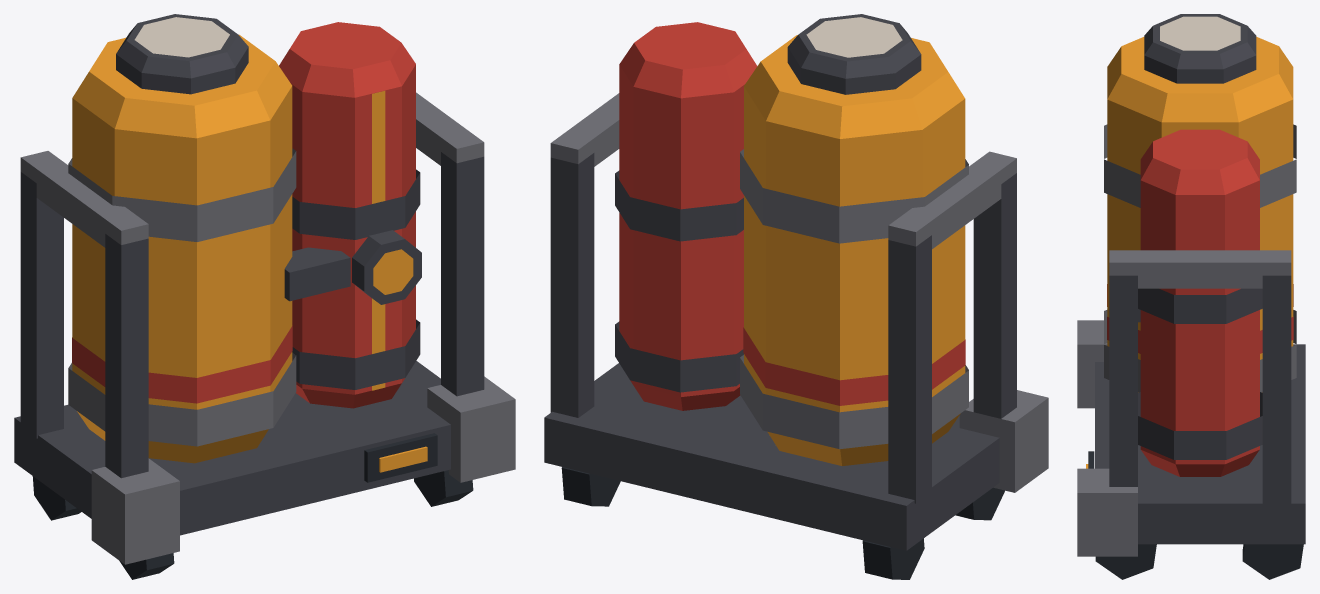
The model's file is fuel_high.glb.
3 renders of one model, left to right at view 1: azimuth 30°, elevation 25°; view 2: azimuth 150°, elevation 25°; view 3: azimuth 270°, elevation 25°, orthographic. The views are drawn at different scales.
Visible parts, largest first — view 1: Support_Frame.003, Main_Vessel.003, Auxiliary_Vessel.003, Main_Strap.006, Main_Strap.007, Fill_Cap.003, Lower_Colour_Band.003, Auxiliary_Strap.007, Auxiliary_Strap.006, Tap_Bridge.003, Cap_Inset.003, Tap_Valve.003 (+7 smaller); view 2: Support_Frame.003, Main_Vessel.003, Auxiliary_Vessel.003, Main_Strap.006, Main_Strap.007, Fill_Cap.003, Lower_Colour_Band.003, Auxiliary_Strap.007, Auxiliary_Strap.006, Cap_Inset.003, Wheel.013, Wheel.015 (+1 smaller); view 3: Support_Frame.003, Auxiliary_Vessel.003, Main_Vessel.003, Fill_Cap.003, Auxiliary_Strap.006, Auxiliary_Strap.007, Main_Strap.007, Cap_Inset.003, Wheel.015, Wheel.014, Main_Strap.006, Lower_Colour_Band.003.
Boxes of the visible parts, box(x1,y1,x2,y2) form: Support_Frame.003: box(14, 92, 515, 564); Main_Vessel.003: box(72, 34, 292, 463); Auxiliary_Vessel.003: box(279, 22, 415, 408); Main_Strap.006: box(68, 353, 296, 446); Main_Strap.007: box(68, 148, 296, 241); Fill_Cap.003: box(116, 14, 248, 94); Lower_Colour_Band.003: box(72, 325, 292, 403); Auxiliary_Strap.007: box(292, 169, 420, 239); Auxiliary_Strap.006: box(292, 319, 420, 389); Tap_Bridge.003: box(284, 247, 350, 301); Cap_Inset.003: box(134, 17, 229, 57); Tap_Valve.003: box(352, 230, 421, 304); Support_Frame.003: box(544, 93, 1048, 550); Main_Vessel.003: box(744, 35, 965, 466); Auxiliary_Vessel.003: box(619, 22, 757, 410); Main_Strap.006: box(740, 355, 968, 449); Main_Strap.007: box(740, 149, 968, 243); Fill_Cap.003: box(787, 14, 921, 94); Lower_Colour_Band.003: box(743, 327, 965, 405); Auxiliary_Strap.007: box(615, 170, 743, 241); Auxiliary_Strap.006: box(615, 321, 743, 392); Cap_Inset.003: box(806, 17, 902, 57); Wheel.013: box(862, 538, 924, 579); Wheel.015: box(561, 467, 620, 506); Support_Frame.003: box(1077, 250, 1305, 556); Auxiliary_Vessel.003: box(1140, 129, 1259, 476); Main_Vessel.003: box(1107, 36, 1293, 392); Fill_Cap.003: box(1144, 14, 1256, 83); Auxiliary_Strap.006: box(1138, 392, 1262, 459); Auxiliary_Strap.007: box(1138, 288, 1262, 323); Main_Strap.007: box(1104, 124, 1296, 207); Cap_Inset.003: box(1160, 16, 1240, 50); Wheel.015: box(1242, 544, 1303, 579); Wheel.014: box(1095, 544, 1156, 579); Main_Strap.006: box(1104, 310, 1296, 392); Lower_Colour_Band.003: box(1107, 284, 1293, 353).
Bounding box in the file's own units: 1.28 × 1.53 × 0.715.
